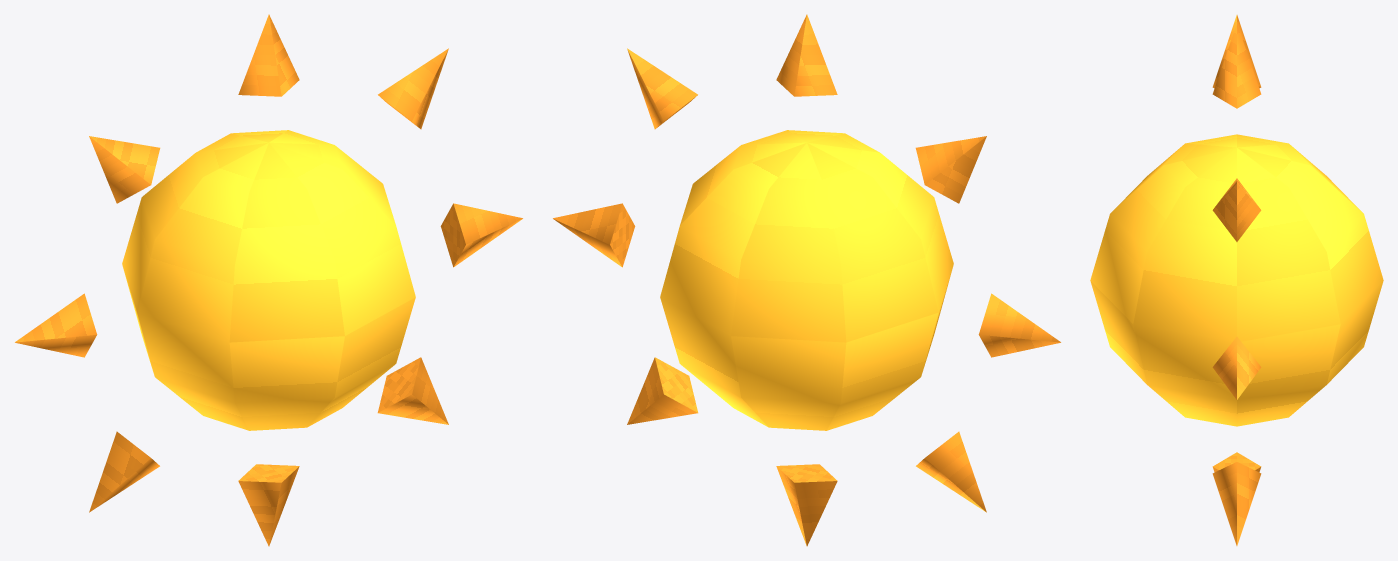
File: sol.glb
3 renders of one model, left to right at view 1: azimuth 30°, elevation 25°; view 2: azimuth 150°, elevation 25°; view 3: azimuth 270°, elevation 25°, orthographic. The views are drawn at different scales.
Visible parts, largest first — view 1: sol; view 2: sol; view 3: sol.
Boxes of the visible parts, box(x1,y1,x2,y2) form: sol: box(15, 14, 522, 546); sol: box(553, 14, 1060, 546); sol: box(1090, 15, 1383, 545).
Bounding box in the file's own units: 1.16 × 1.16 × 0.6.
Materials: 2 (2 with a texture image).
